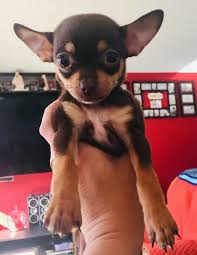chihuahua: (7, 6, 185, 251)
